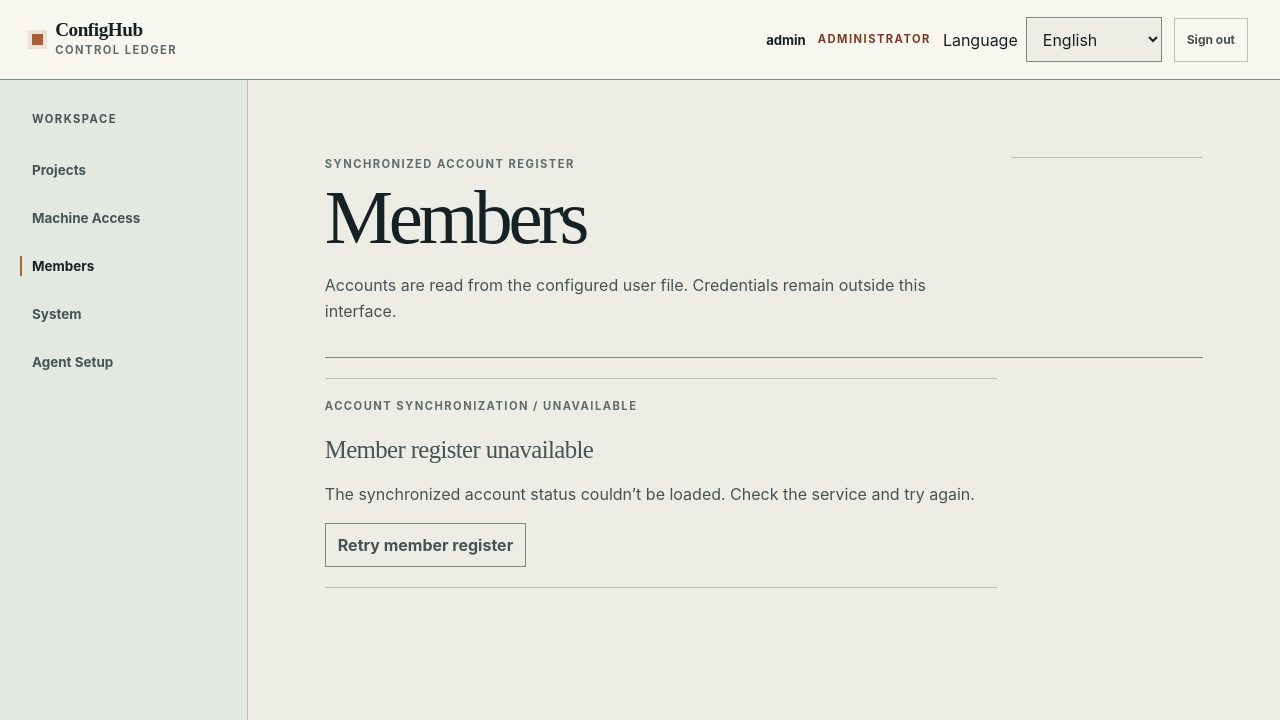
Test case: MembersPage › shows a bounded unavailable state and retries
expect the heading "Member register unavailable" is shown: met, box [325,436,593,463]
Click the button "Retry member register".
click(426, 545)  # box [325,523,526,567]
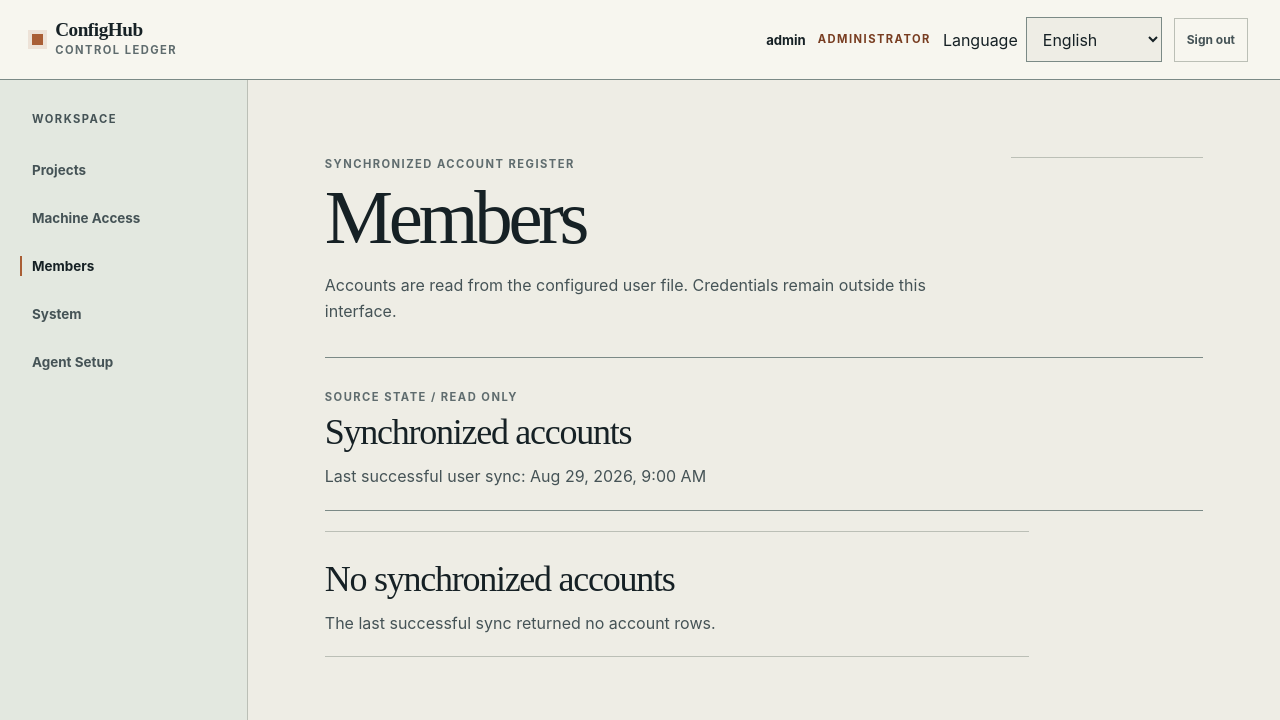
expect the heading "No synchronized accounts" is shown: met, box [325,559,674,599]
